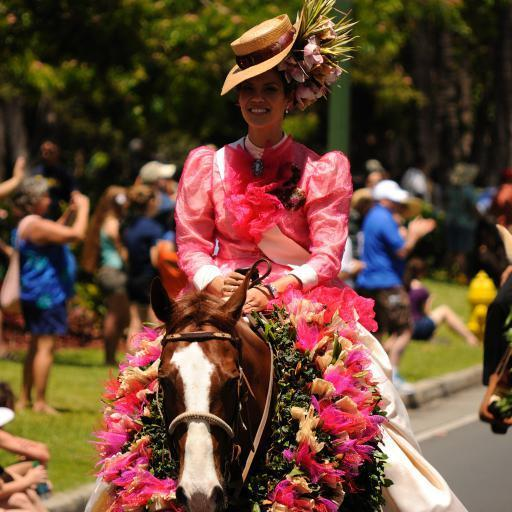horse: (145, 269, 283, 512)
